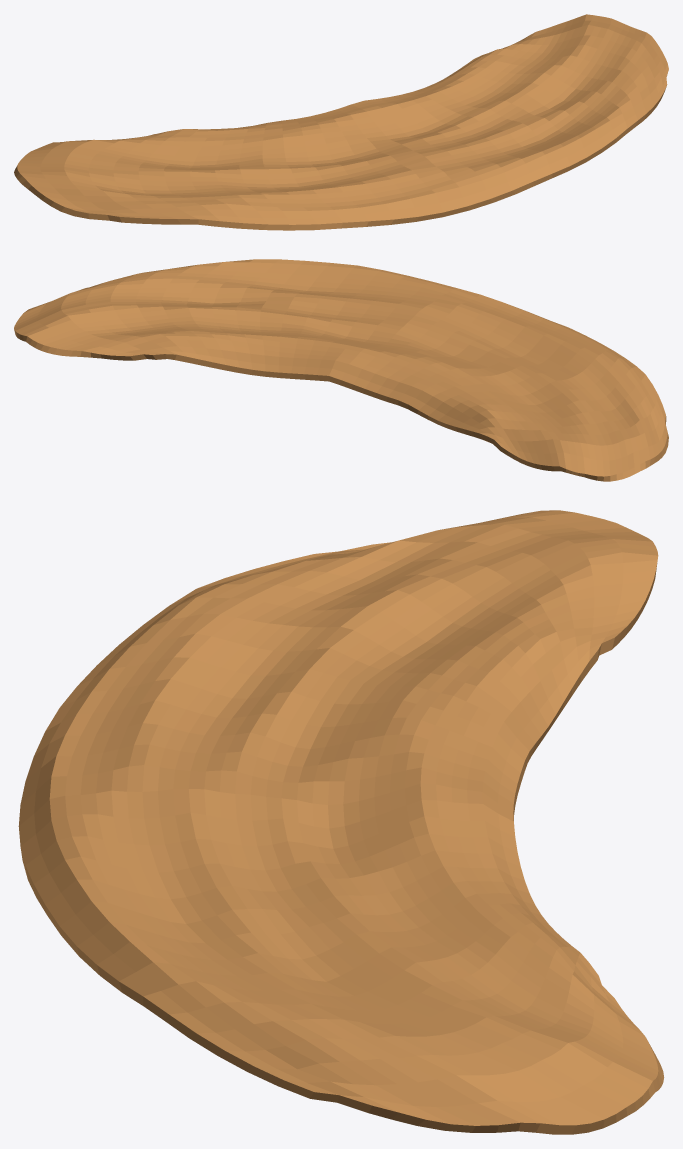
The model's file is SandPatch4.fbx.
3 views of the same model, one above another, from view 1: azimuth 30°, elevation 25°; view 2: azimuth 150°, elevation 25°; view 3: azimuth 270°, elevation 25° (orthographic). The views are drawn at different scales.
Parts seen in each view (by area): view 1: SandPatch4; view 2: SandPatch4; view 3: SandPatch4.
Part boxes in pixels (x1,y1,x2,y2): SandPatch4: (14,14,668,230); SandPatch4: (14,259,668,481); SandPatch4: (18,510,664,1134).
Bounding box in the file's own units: 125 × 56.05 × 5.51.
